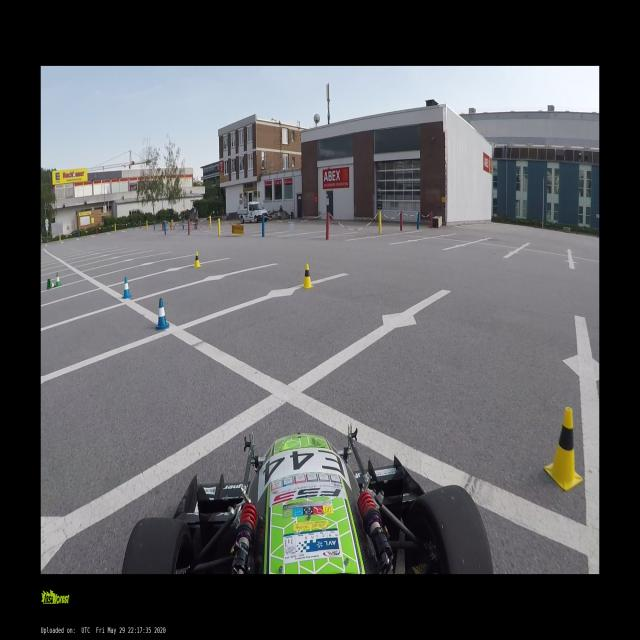blue_cone: (155, 298, 168, 329), (122, 277, 131, 298)
unknown_cone: (46, 278, 56, 288), (54, 272, 60, 286)
yellow_cone: (545, 406, 584, 490), (301, 263, 313, 288), (193, 252, 201, 268)
